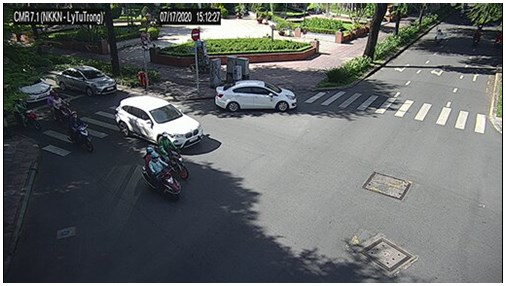xe_hoi: (114, 95, 203, 150), (215, 80, 297, 113), (55, 66, 117, 94), (11, 78, 50, 102)
xe_may: (141, 146, 182, 200), (68, 111, 95, 152), (12, 103, 42, 131), (51, 94, 75, 125), (434, 28, 444, 46), (472, 31, 480, 46)
